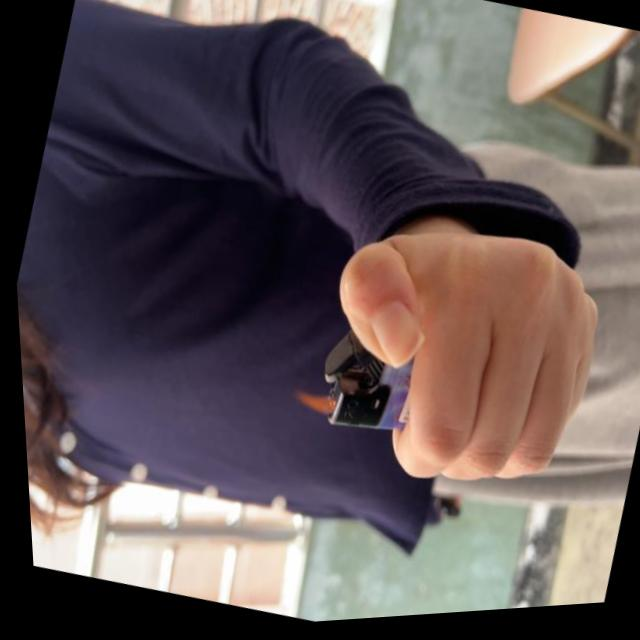Fire: (279, 386, 337, 428)
